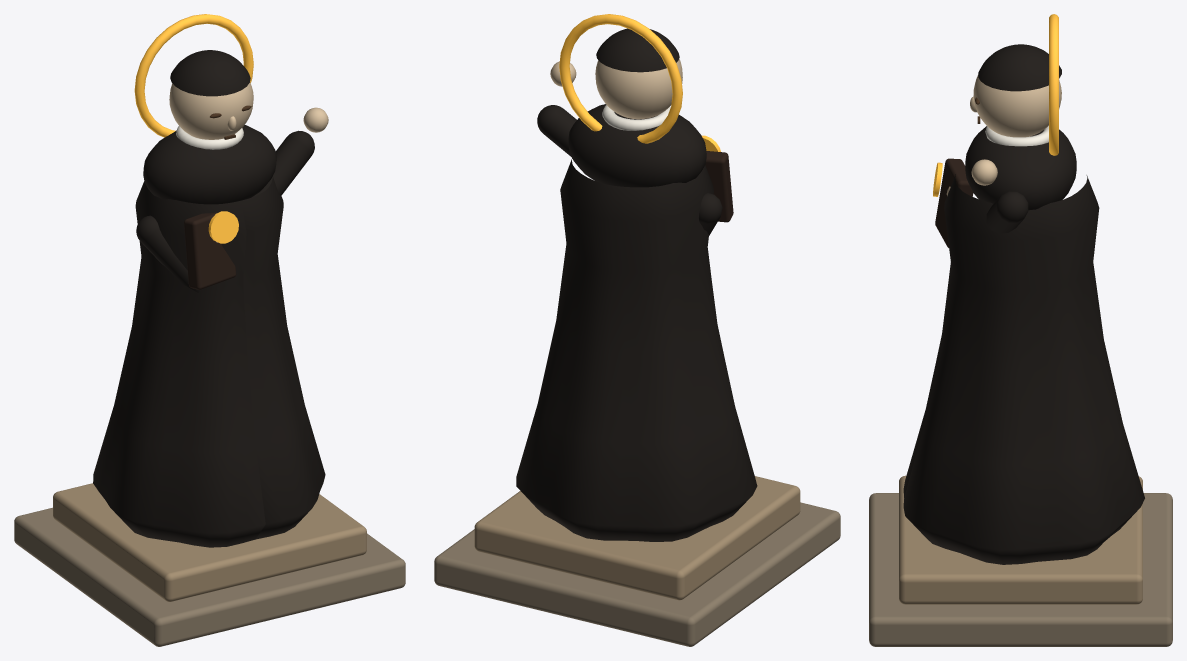
Rendered from statue-ignatio.glb.
3 views of the same model, side by side, from view 1: azimuth 30°, elevation 25°; view 2: azimuth 150°, elevation 25°; view 3: azimuth 270°, elevation 25° (orthographic). The views are drawn at different scales.
Parts seen in each view (by area): view 1: Robe, PlinthLow, PlinthTop, Shoulders, Head, Hair, Book, object 18, ArmR, ArmL, object 15, object 4; view 2: Robe, PlinthLow, PlinthTop, Shoulders, object 18, Head, Hair, Book, ArmR, object 4, ArmL; view 3: Robe, PlinthLow, PlinthTop, Shoulders, Head, Hair, object 18, ArmR, Book, object 4, HandR.
Boxes of the visible parts, x1,y1,x2,y2 form: Robe: [93, 176, 325, 547]; PlinthLow: [14, 507, 405, 646]; PlinthTop: [53, 483, 366, 601]; Shoulders: [143, 125, 276, 204]; Head: [169, 82, 253, 139]; Hair: [170, 50, 250, 96]; Book: [184, 212, 236, 289]; object 18: [134, 14, 253, 137]; ArmR: [252, 130, 314, 197]; ArmL: [136, 215, 201, 292]; object 15: [208, 211, 238, 243]; object 4: [176, 126, 243, 149]; Robe: [516, 158, 757, 541]; PlinthLow: [434, 502, 840, 646]; PlinthTop: [474, 476, 800, 600]; Shoulders: [568, 104, 706, 187]; object 18: [559, 14, 682, 143]; Head: [595, 59, 682, 119]; Hair: [596, 28, 679, 72]; Book: [705, 151, 733, 222]; ArmR: [537, 105, 576, 156]; object 4: [602, 105, 670, 130]; ArmL: [699, 193, 722, 235]; Robe: [903, 174, 1144, 564]; PlinthLow: [869, 493, 1172, 646]; PlinthTop: [899, 475, 1142, 604]; Shoulders: [965, 126, 1076, 210]; Head: [973, 75, 1061, 137]; Hair: [978, 44, 1061, 91]; object 18: [1049, 14, 1058, 155]; ArmR: [986, 191, 1028, 233]; Book: [935, 158, 973, 247]; object 4: [985, 125, 1048, 146]; HandR: [971, 159, 997, 185].
Size of the model in its own units: 0.92 by 1.89 by 0.92.
